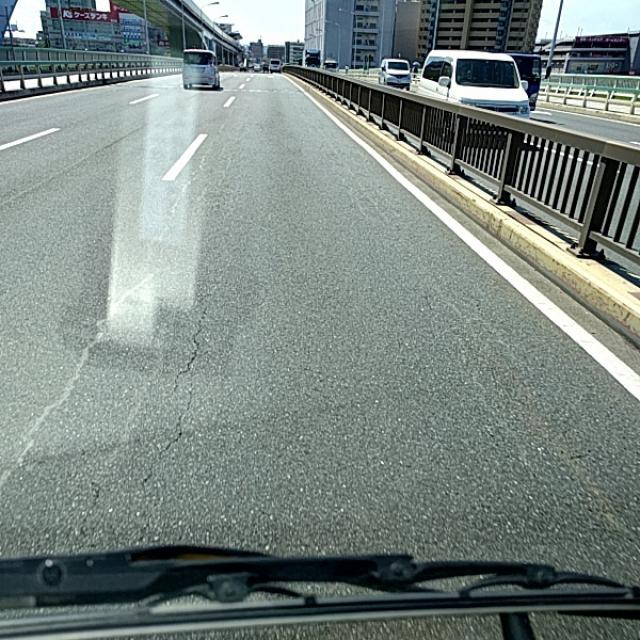pothole: (124, 373, 183, 496)
